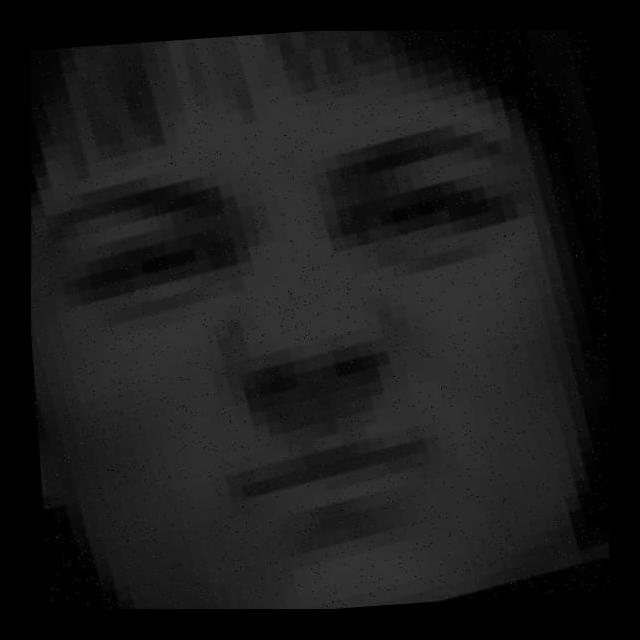Disgust: (31, 118, 586, 580)
